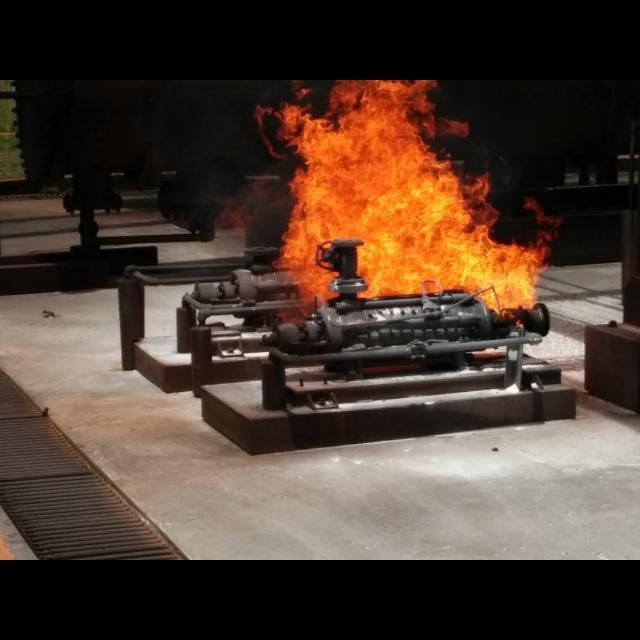Fire: (252, 80, 560, 328)
